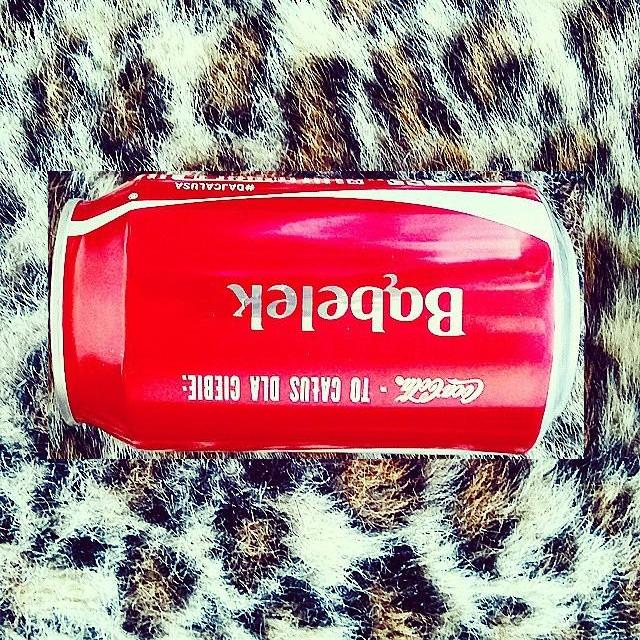coca-cola: (48, 171, 584, 459)
